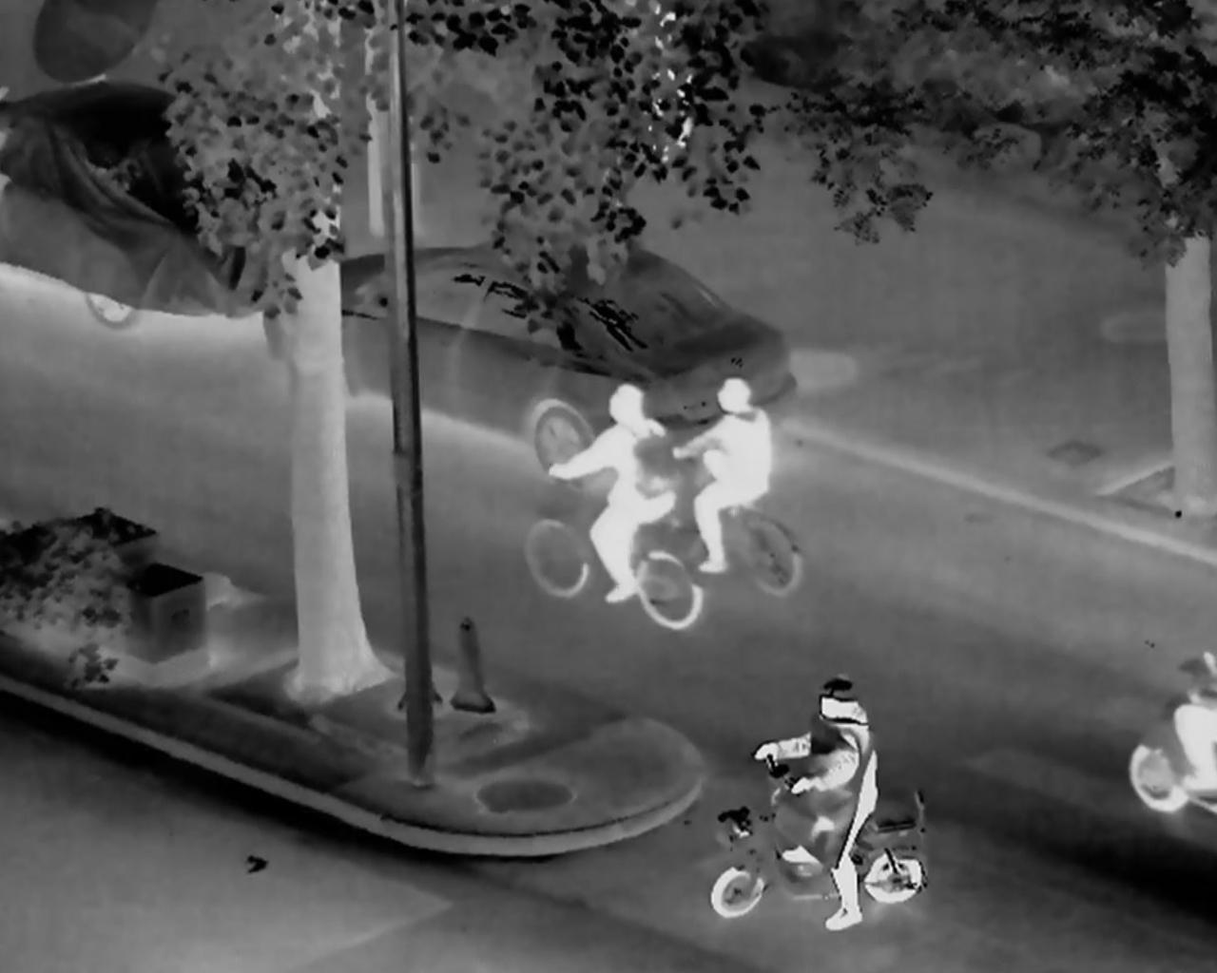person: (755, 675, 878, 930), (545, 384, 678, 605), (670, 374, 772, 578), (1168, 644, 1217, 792)
